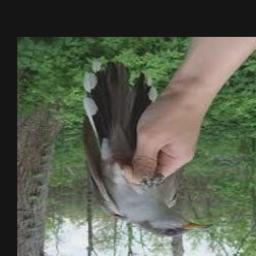Cuckoo: (82, 62, 211, 238)
